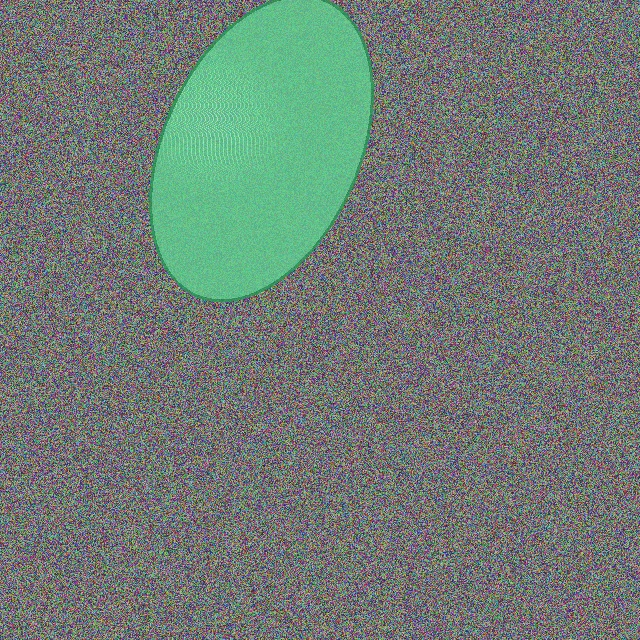lens: (151, 0, 371, 300)
